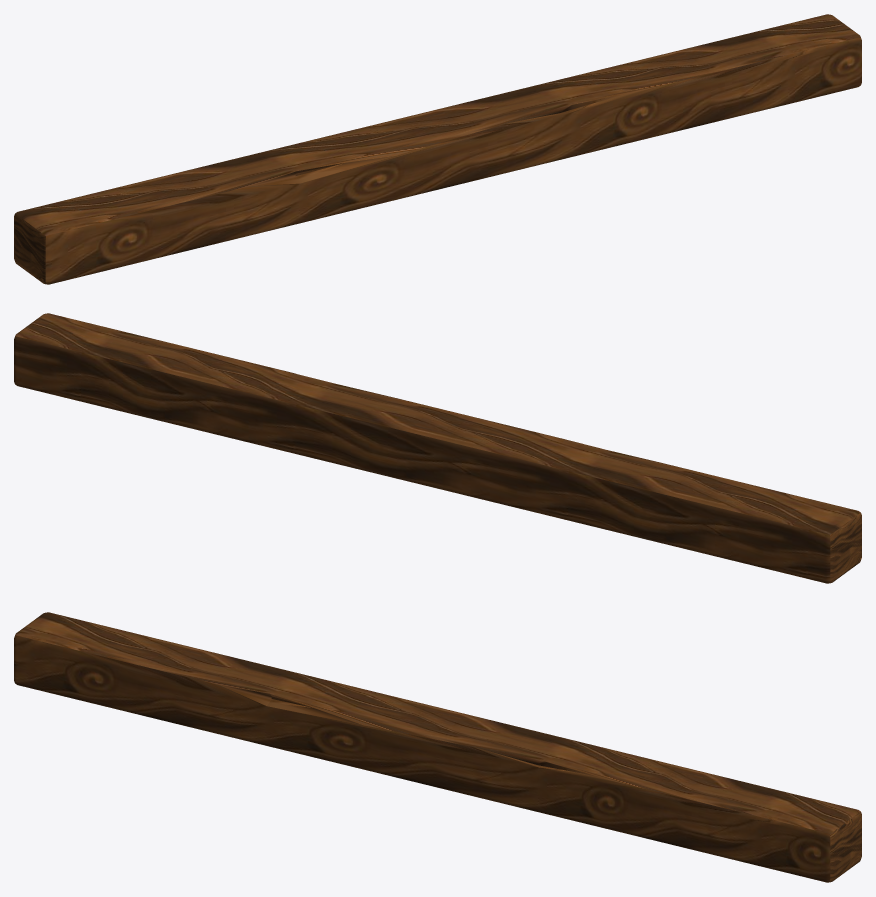
The model's file is highdetailbeam.obj.
The picture shows the model from 3 angles, top to bottom: view 1: azimuth 30°, elevation 25°; view 2: azimuth 150°, elevation 25°; view 3: azimuth 330°, elevation 25°; orthographic projection.
Parts seen in each view (by area): view 1: Supportbeam1:group3 Supportbeam1:pCube14 Supportbeam1:polySurfac; view 2: Supportbeam1:group3 Supportbeam1:pCube14 Supportbeam1:polySurfac; view 3: Supportbeam1:group3 Supportbeam1:pCube14 Supportbeam1:polySurfac.
Part boxes in pixels (x1,y1,x2,y2): Supportbeam1:group3 Supportbeam1:pCube14 Supportbeam1:polySurfac: (14, 14, 861, 284); Supportbeam1:group3 Supportbeam1:pCube14 Supportbeam1:polySurfac: (14, 313, 861, 583); Supportbeam1:group3 Supportbeam1:pCube14 Supportbeam1:polySurfac: (14, 612, 861, 882).
Size of the model in its own units: 17.8 by 1.09 by 1.26.
Materials: 1 (1 with a texture image).
